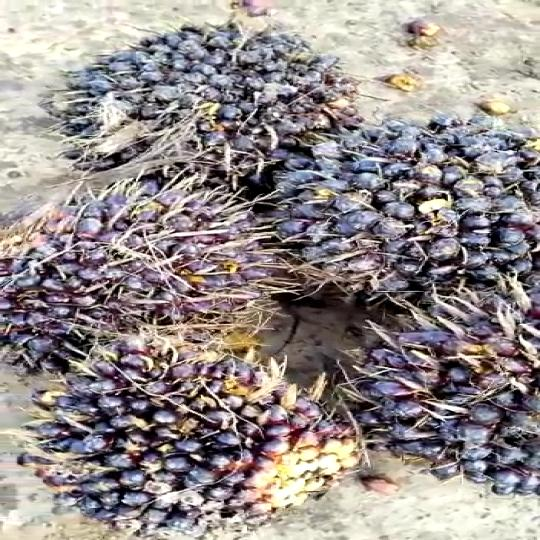mentah: (0, 331, 354, 520), (0, 173, 285, 394), (258, 112, 532, 323), (327, 284, 540, 496), (44, 24, 358, 167)
